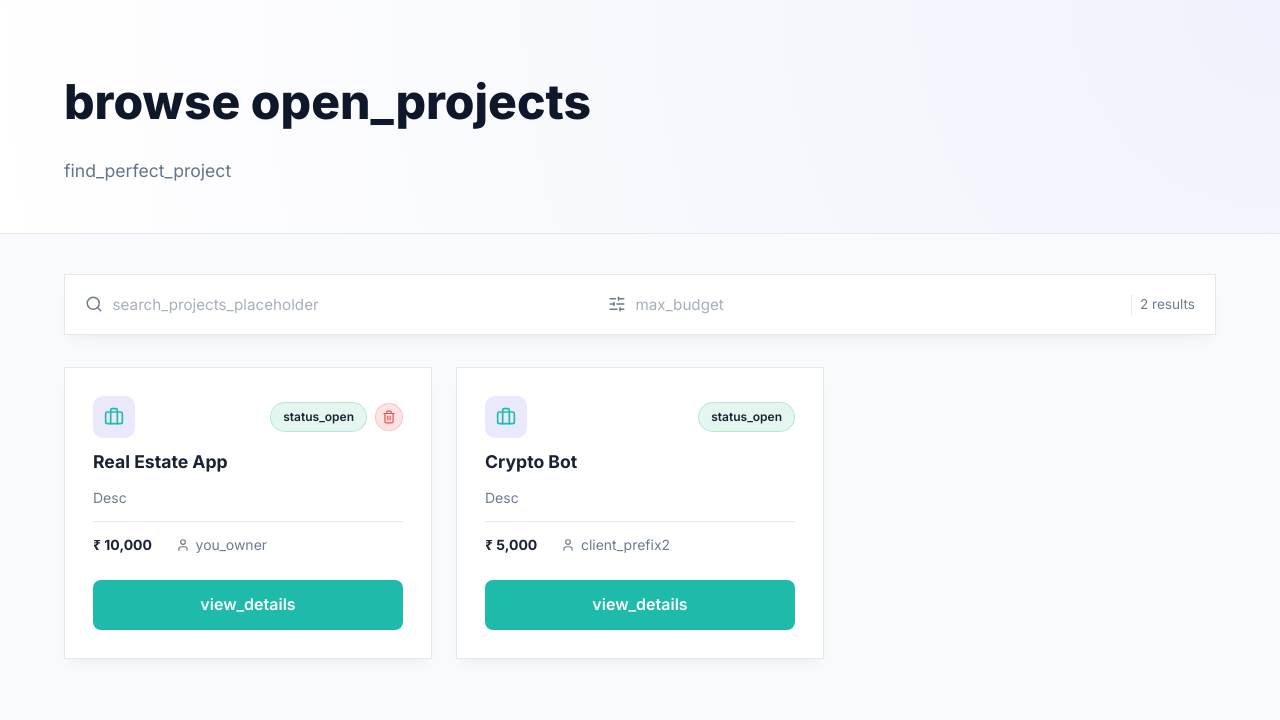
Projects Component › renders projects successfully
Expected: the heading "Real Estate App" is shown, [93, 451, 228, 472]
Expected: the heading "Crypto Bot" is shown, [485, 451, 577, 472]
Type "Real Estate" into the field with placeholder "search_projects_placeholder" at [352, 304], box [113, 287, 592, 322]
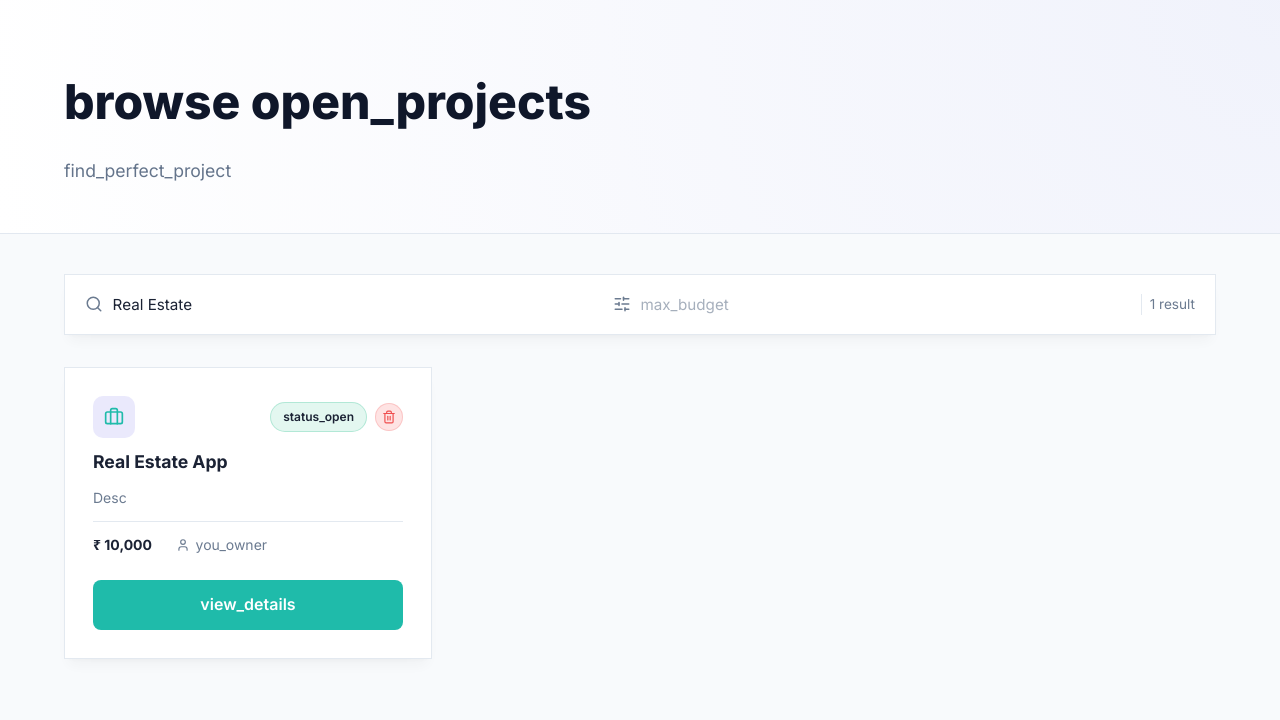
Expected: the heading "Real Estate App" is shown, [93, 451, 228, 472]
Expected: the heading "Crypto Bot" is gone
Clear the field with placeholder "search_projects_placeholder" at [355, 304], box [113, 287, 597, 322]
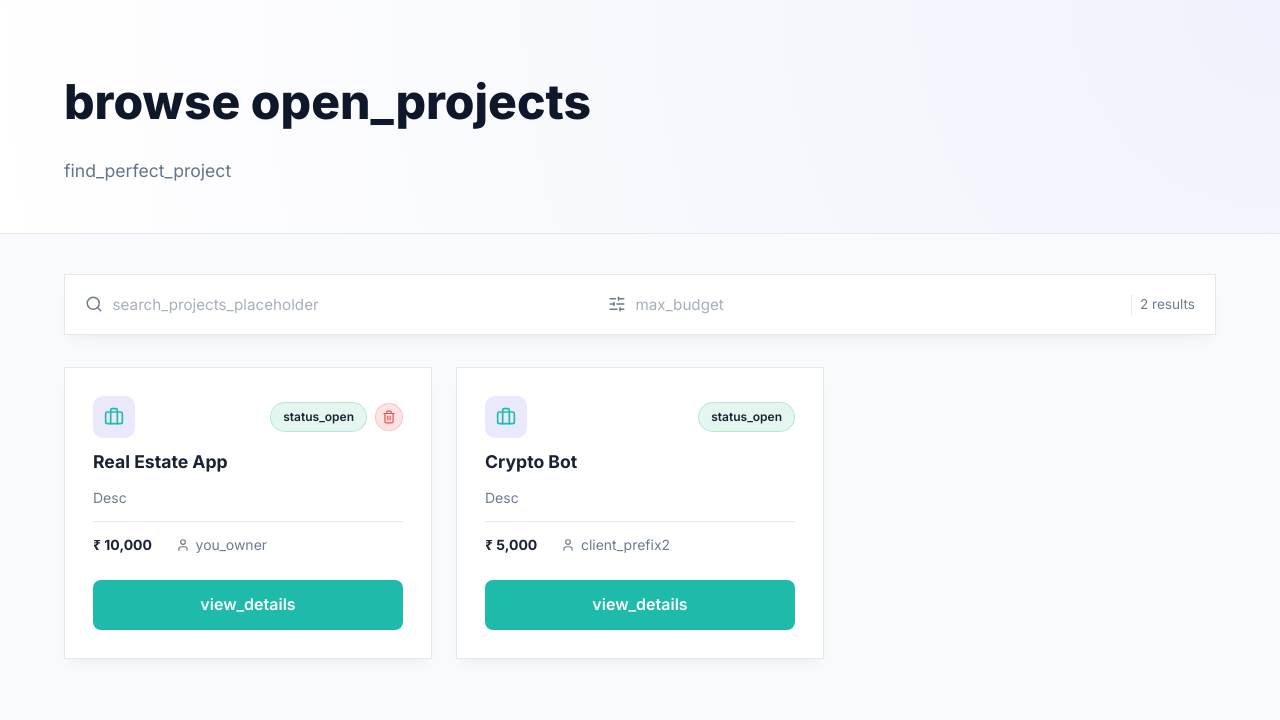
Type "6000" into the number field with placeholder "max_budget" at [875, 304], box [636, 287, 1115, 322]
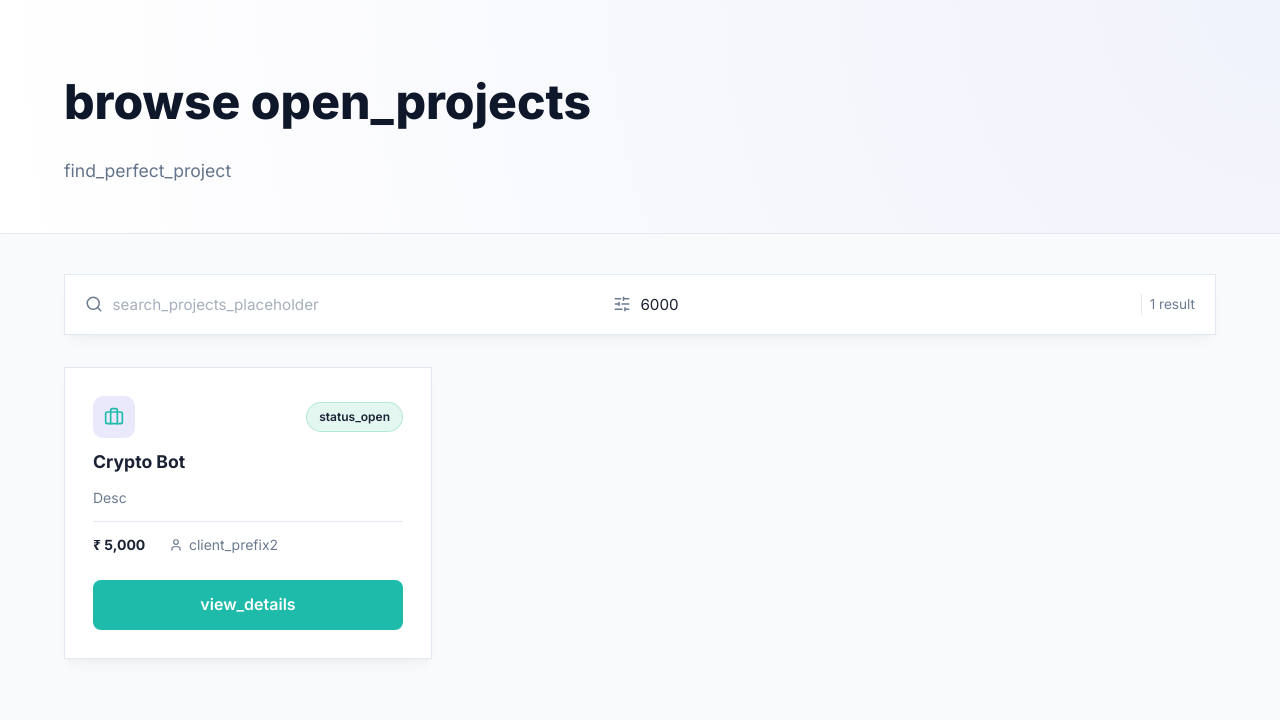
Expected: the heading "Crypto Bot" is shown, [93, 451, 185, 472]
Expected: the heading "Real Estate App" is gone
